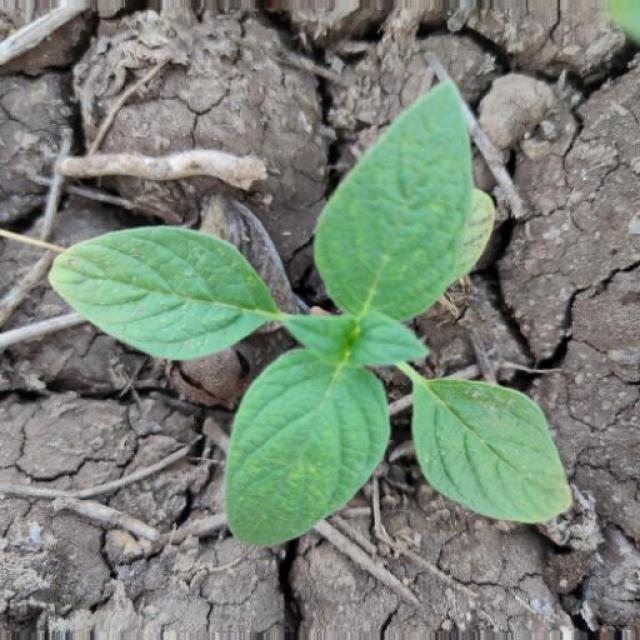crop: (39, 66, 575, 568)
